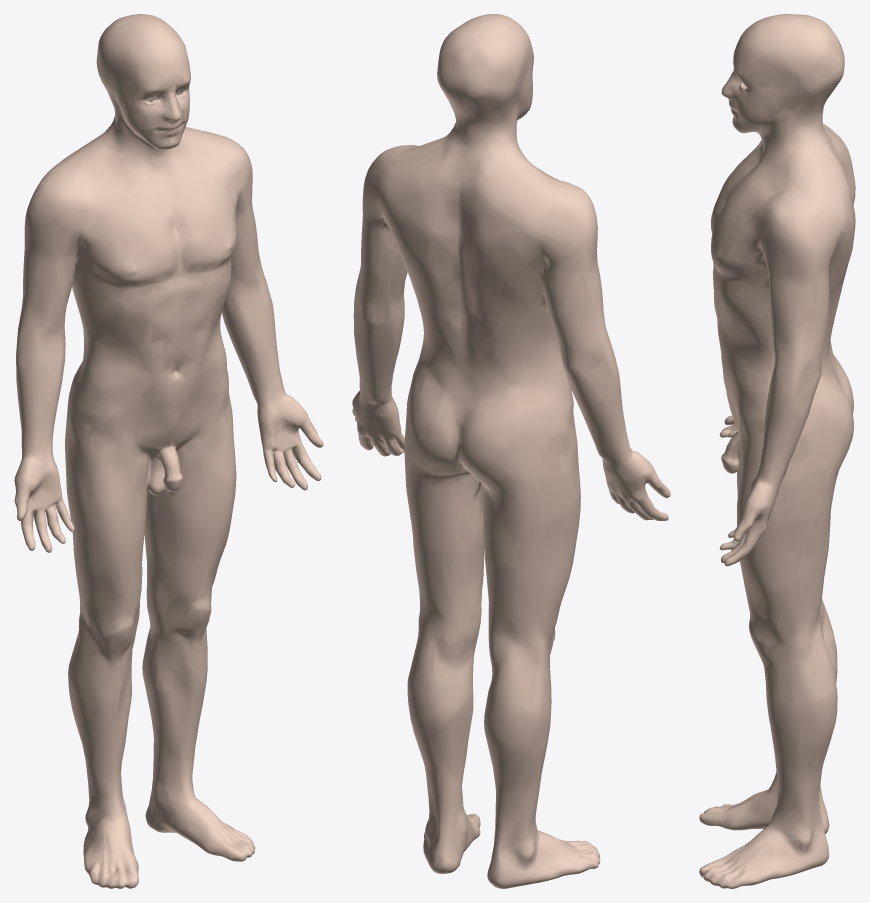
File: integumentary.glb
3 renders of one model, left to right at view 1: azimuth 30°, elevation 25°; view 2: azimuth 150°, elevation 25°; view 3: azimuth 270°, elevation 25°, orthographic. The views are drawn at different scales.
Parts seen in each view (by area): view 1: Skin; view 2: Skin; view 3: Skin.
Part boxes in pixels (x1=…): Skin: x1=14, y1=14, x2=323, y2=888; Skin: x1=352, y1=14, x2=670, y2=888; Skin: x1=699, y1=14, x2=855, y2=888.
Size of the model in its own units: 0.6668 by 1.72 by 0.292.
